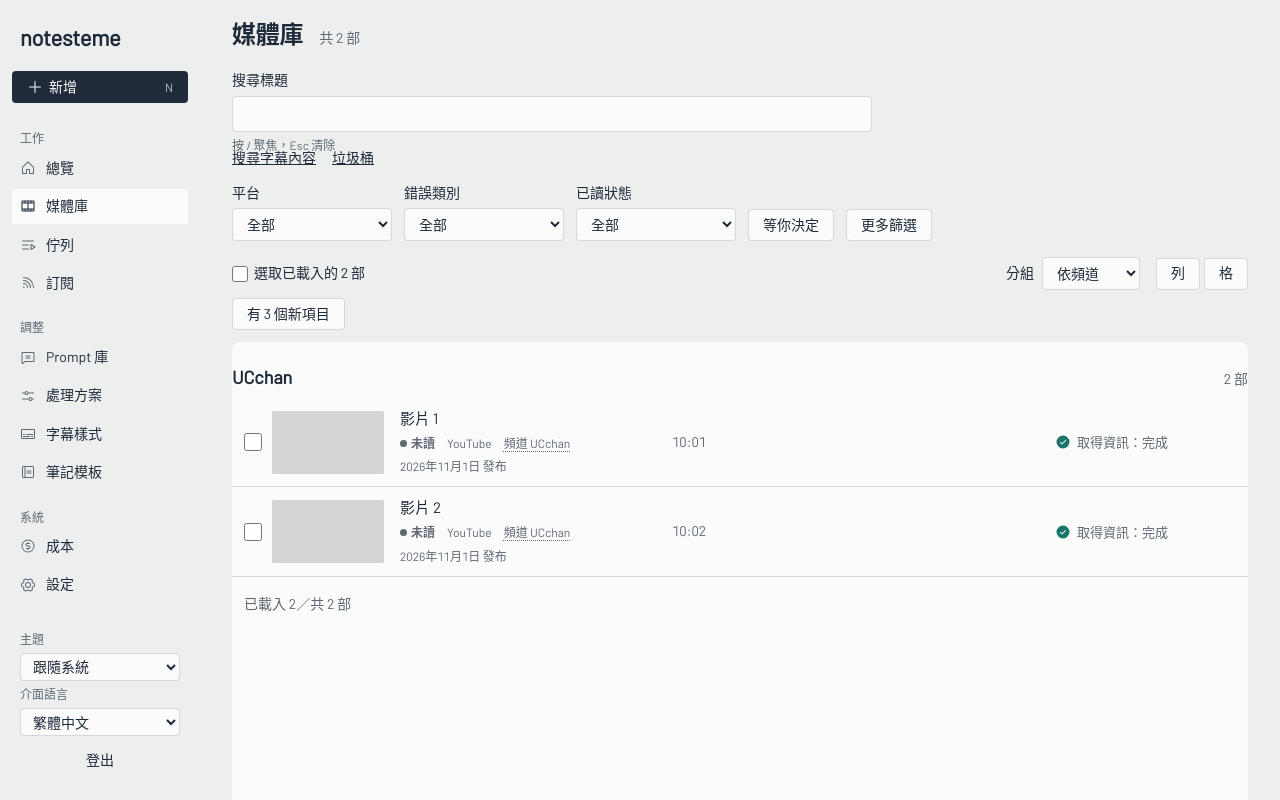
Scenario: 媒體庫：即時更新不打亂列表（LIB-R9） › item.created 只累計「有 N 個新項目」，點擊後才重新載入
Check: the heading "媒體庫" is shown, box [232,20,303,49]
Check: the link "影片 1" is shown, box [400,408,438,426]
Click the button "有 3 個新項目".
click(288, 314)  # box [232,298,345,330]
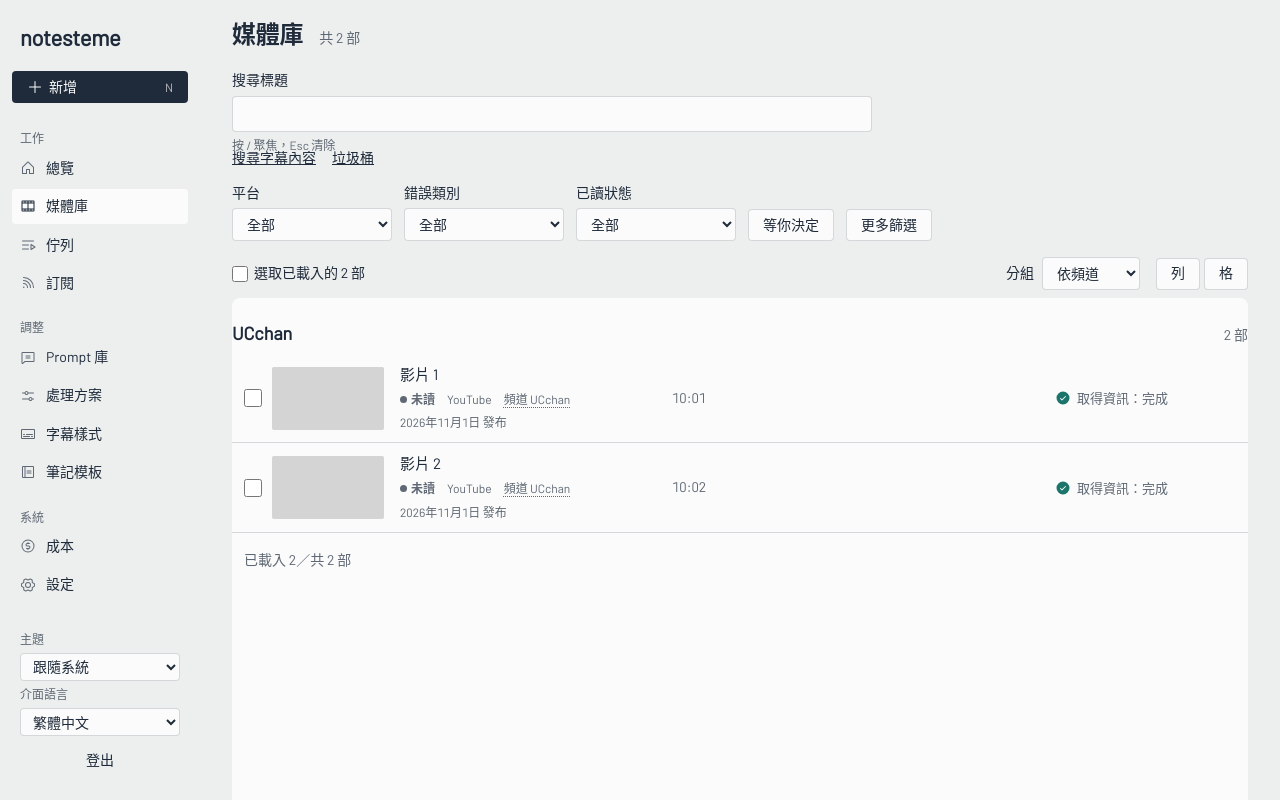
Check: the button "個新項目" is gone
